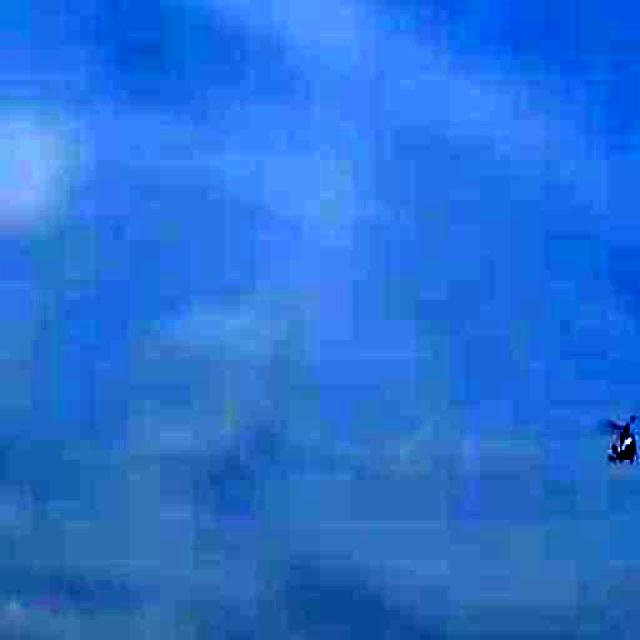drone: (585, 410, 640, 474)
